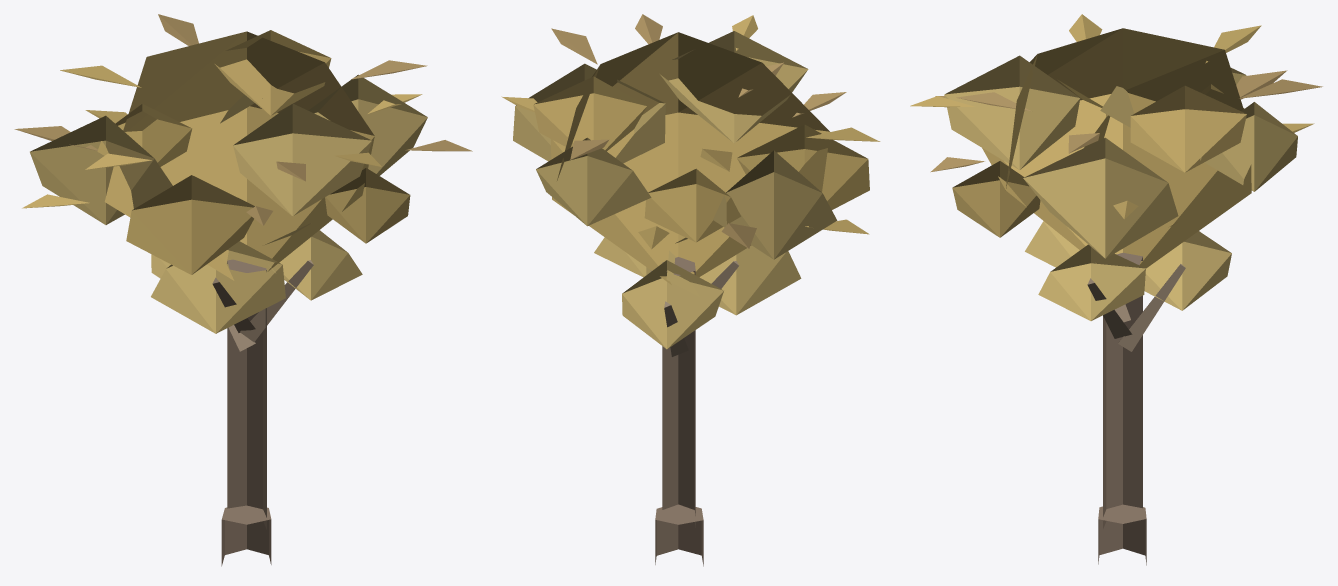
The model's file is shu.paotong@subadult__autumn.glb.
3 renders of one model, left to right at view 1: azimuth 30°, elevation 25°; view 2: azimuth 150°, elevation 25°; view 3: azimuth 270°, elevation 25°, orthographic.
Visible parts, largest first — view 1: shu.paotong@subadult__autumn; view 2: shu.paotong@subadult__autumn; view 3: shu.paotong@subadult__autumn.
Boxes of the visible parts, x1=… form: shu.paotong@subadult__autumn: x1=14, y1=14, x2=472, y2=566; shu.paotong@subadult__autumn: x1=501, y1=14, x2=880, y2=566; shu.paotong@subadult__autumn: x1=910, y1=14, x2=1322, y2=565.
Bounding box in the file's own units: 7.14 × 9.11 × 6.54.
